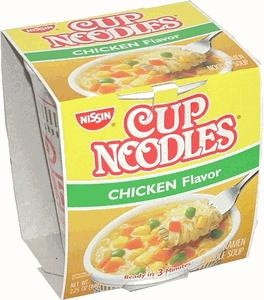grozi_25: (0, 0, 262, 299)
